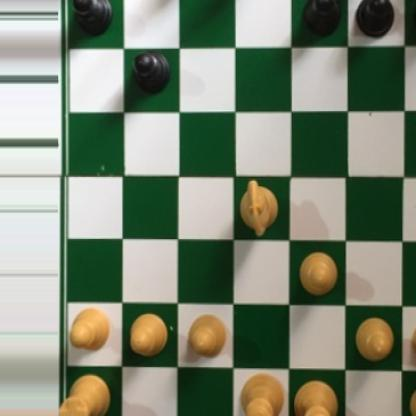black-pawn: (68, 0, 114, 39), (131, 52, 172, 94), (354, 0, 394, 39), (300, 0, 340, 37), (410, 0, 416, 39)
white-king: (291, 376, 340, 416)
white-knight: (237, 176, 280, 240), (408, 381, 416, 416)
white-pawn: (183, 311, 230, 359), (296, 252, 342, 297), (67, 304, 111, 349), (128, 310, 168, 359), (353, 317, 394, 362), (410, 317, 416, 366)
white-queen: (236, 371, 284, 416)
white-rook: (58, 372, 113, 416)
